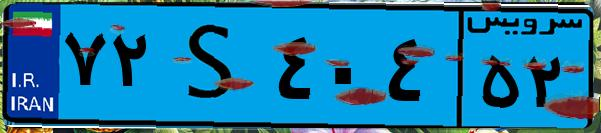0: (330, 28, 385, 110)
2: (525, 38, 570, 115), (110, 28, 158, 98)
4: (270, 28, 330, 110), (385, 28, 445, 110)
5: (475, 38, 525, 113)
7: (57, 26, 110, 100)
S: (158, 12, 270, 120)
